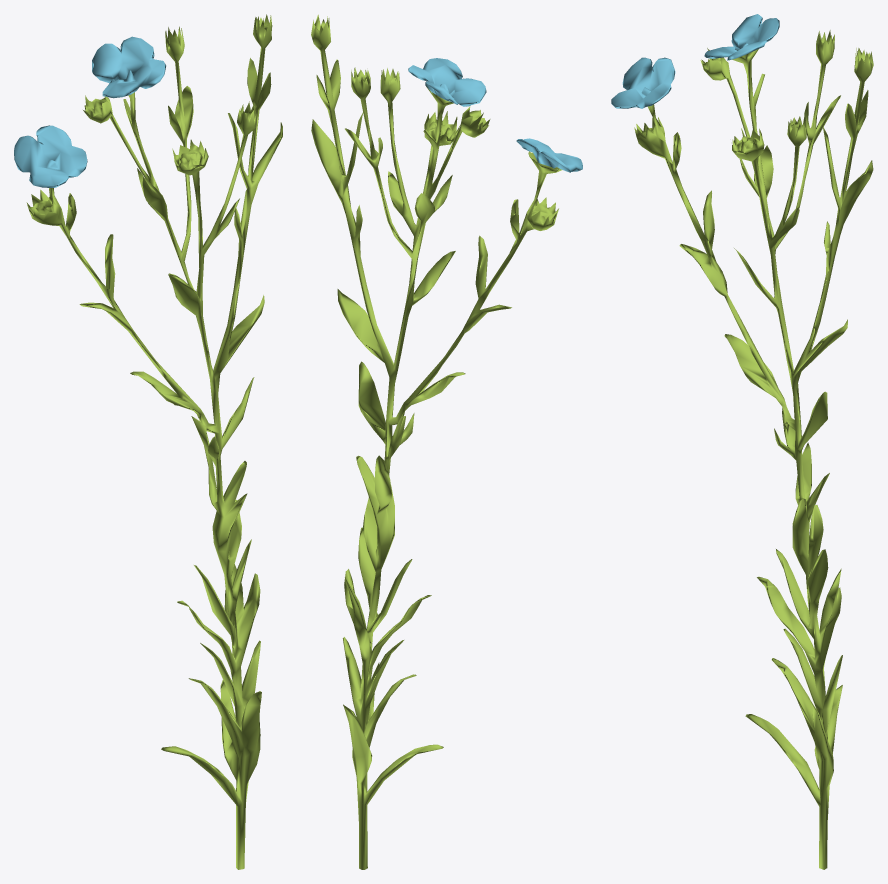
Rendered from flax.glb.
3 renders of one model, left to right at view 1: azimuth 30°, elevation 25°; view 2: azimuth 150°, elevation 25°; view 3: azimuth 330°, elevation 25°, orthographic. The views are drawn at different scales.
Visible parts, largest first — view 1: flax-Mat, flax-Mat.1; view 2: flax-Mat, flax-Mat.1; view 3: flax-Mat, flax-Mat.1.
Part boxes in pixels (left/top/right/bottom): flax-Mat: left=26, top=14, right=282, bottom=869; flax-Mat.1: left=14, top=36, right=166, bottom=187; flax-Mat: left=311, top=14, right=561, bottom=869; flax-Mat.1: left=408, top=58, right=582, bottom=172; flax-Mat: left=634, top=30, right=873, bottom=869; flax-Mat.1: left=611, top=14, right=779, bottom=108.
Bounding box in the file's own units: 61.08 × 189 × 25.03.
